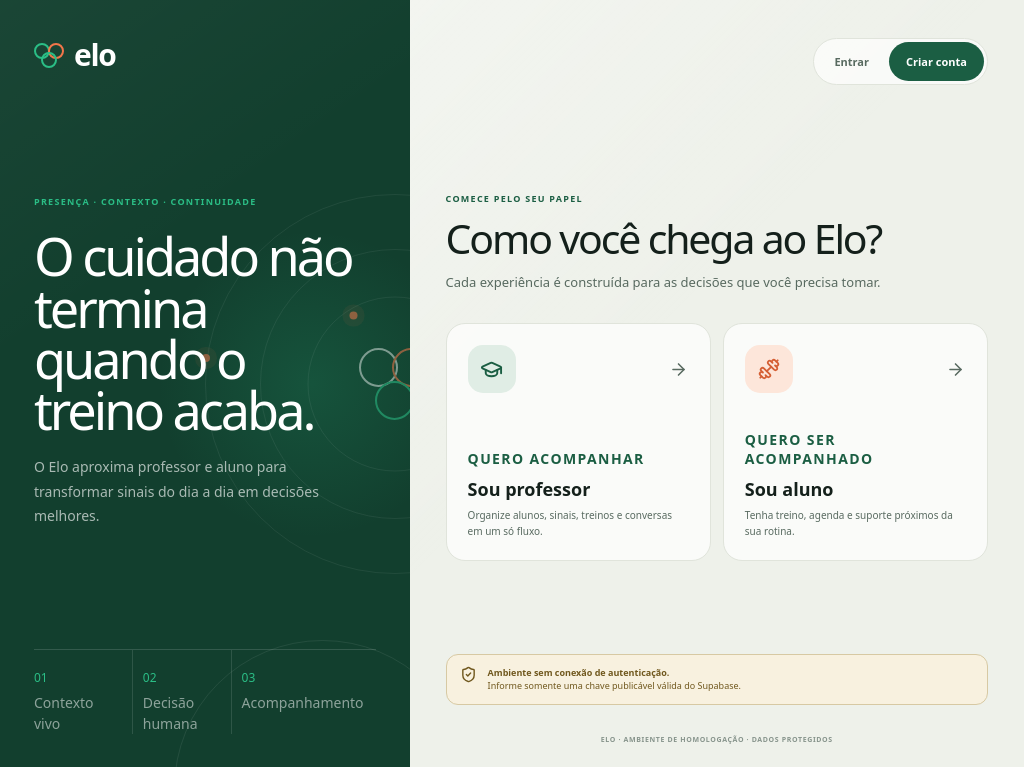
Test: Elo authentication entry › keeps the student registration free of professional and health-consent fields
The image size is (1024, 767).
What coordinates should you click on to do the following:
click the button "Sou aluno"
I would click on:
 (769, 369)
Its box is [723,323,988,561].
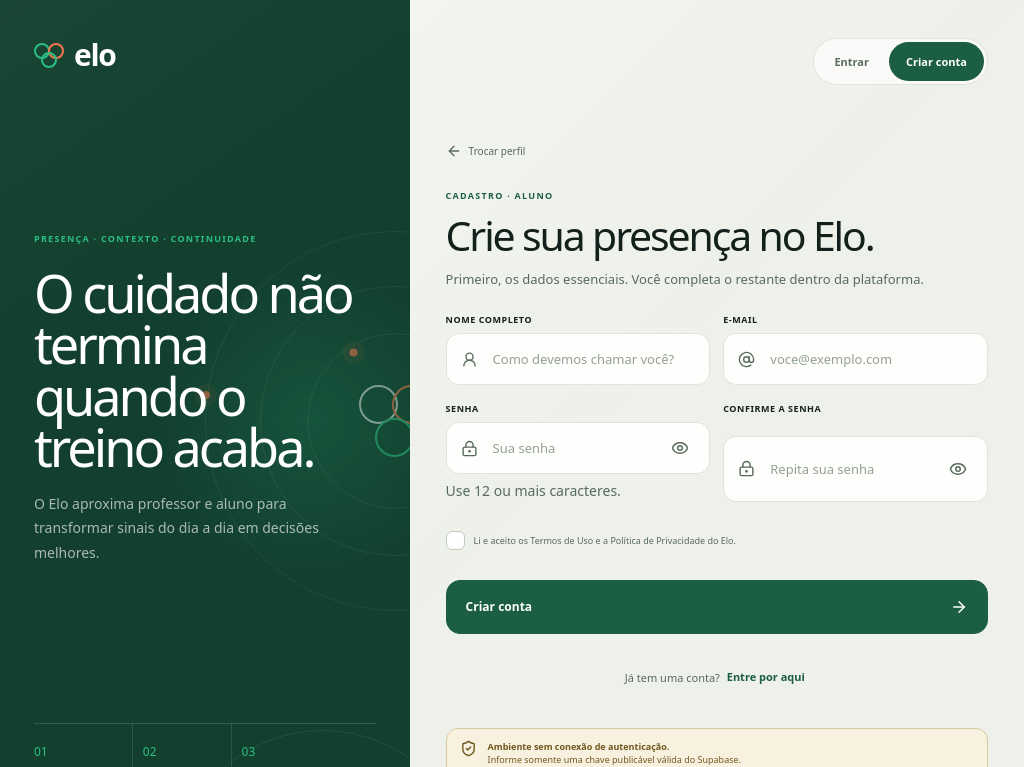
Result: the field labelled "Nome completo" is shown at [491,334,694,384]
